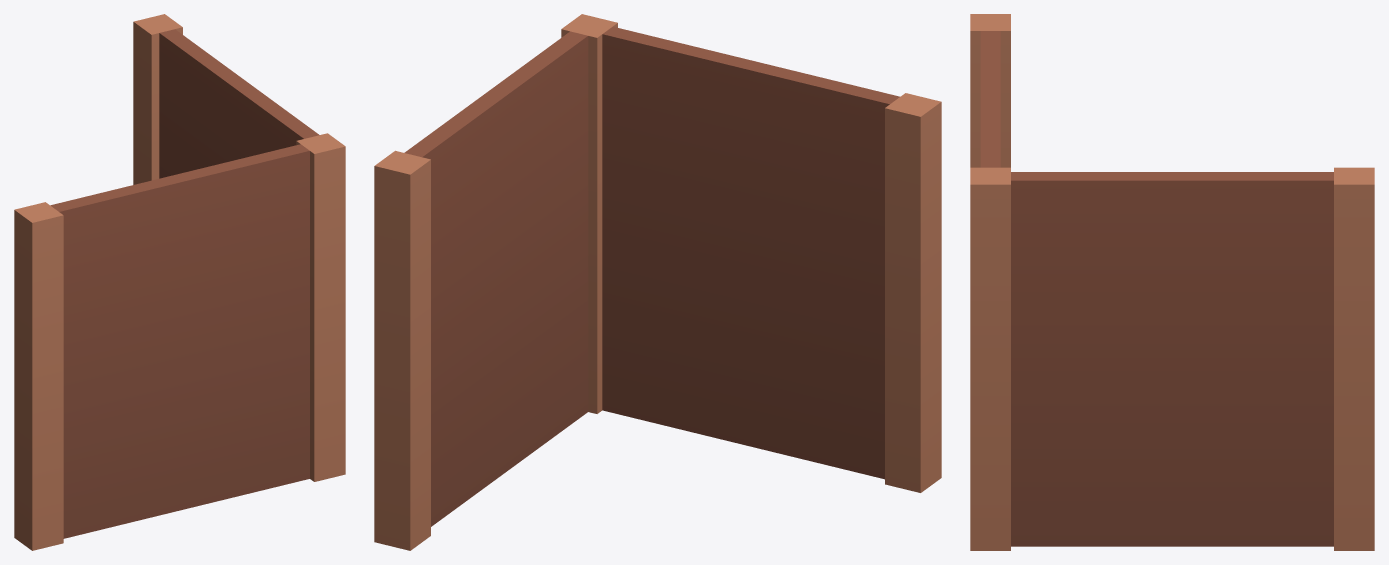
Rendered from wall-kn-wall-wood-corner.glb.
The picture shows the model from 3 angles, left to right: view 1: azimuth 30°, elevation 25°; view 2: azimuth 150°, elevation 25°; view 3: azimuth 270°, elevation 25°; orthographic projection. The views are drawn at different scales.
Visible parts, largest first — view 1: wall-wood-corner; view 2: wall-wood-corner; view 3: wall-wood-corner.
Part boxes in pixels (x1,y1,x2,y2): wall-wood-corner: (14, 14, 345, 550); wall-wood-corner: (374, 14, 941, 550); wall-wood-corner: (970, 14, 1374, 550).
Bounding box in the file's own units: 3 × 3 × 3.
1 material, 1 textured.
